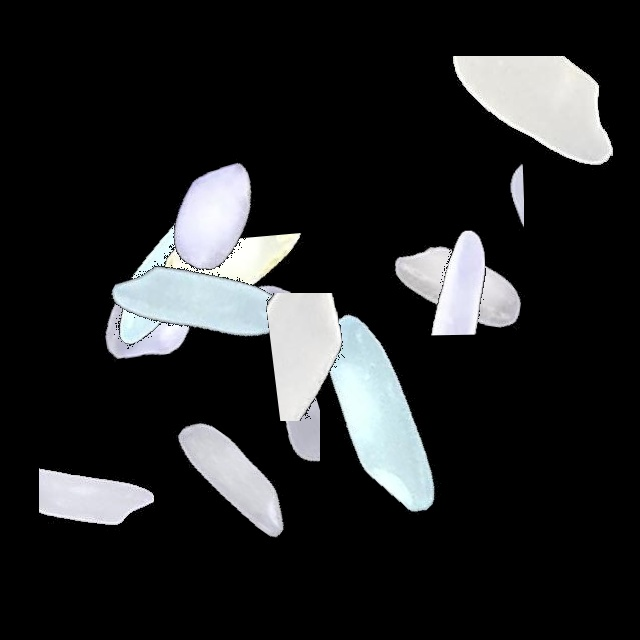Broken: (39, 372, 210, 622), (449, 13, 613, 263), (164, 185, 307, 435), (384, 140, 523, 390), (190, 298, 320, 548), (211, 293, 461, 421), (214, 140, 324, 390), (426, 104, 524, 354)
Full: (26, 186, 276, 436), (331, 158, 581, 408), (256, 291, 506, 541), (110, 353, 360, 603), (52, 135, 302, 385), (90, 92, 340, 342), (72, 178, 322, 428)
